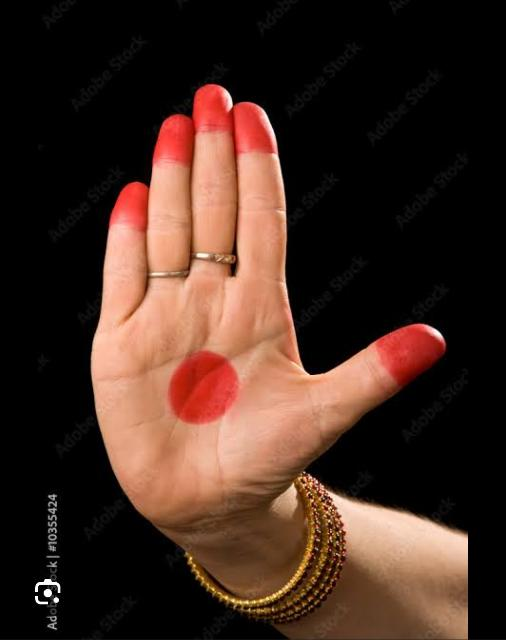ardhachandra: (64, 69, 468, 565)
